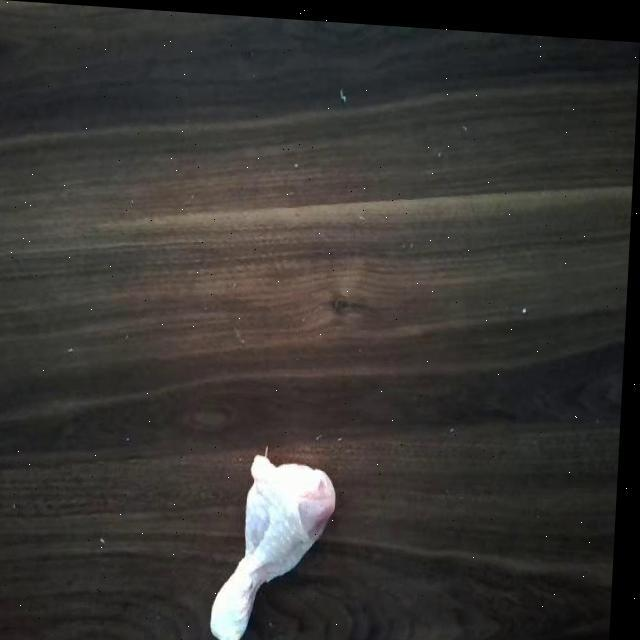leg: (212, 444, 340, 640)
